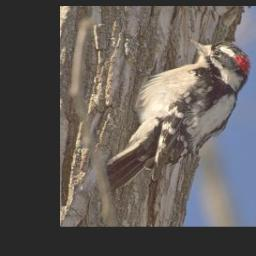Woodpecker: (106, 38, 252, 191)
